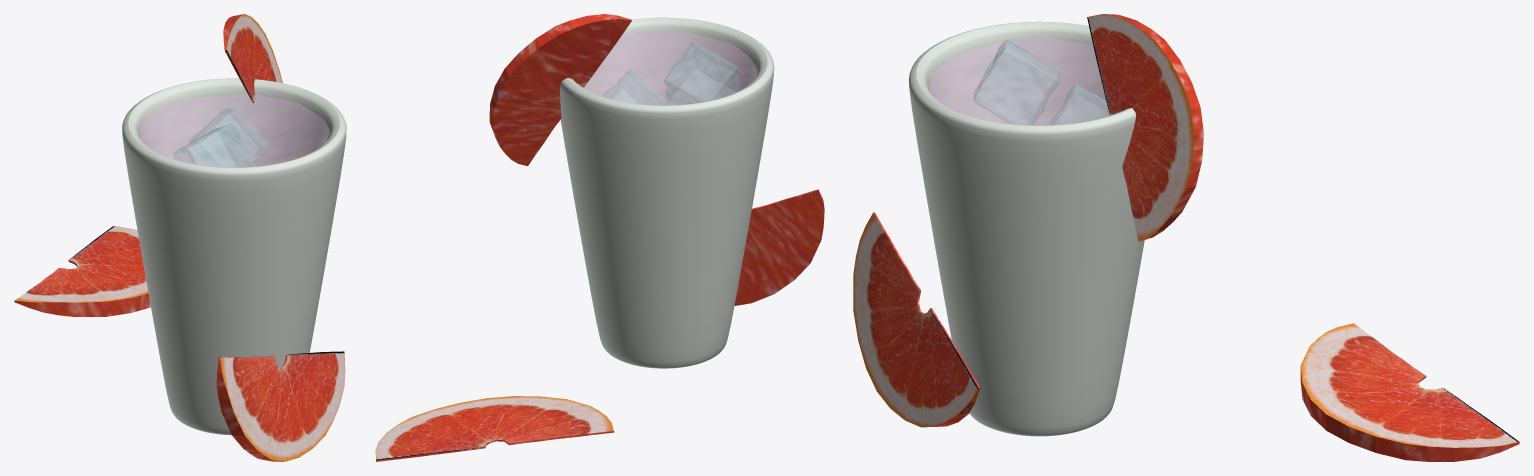
File: GinPomelo.glb
The picture shows the model from 3 angles, left to right: view 1: azimuth 30°, elevation 25°; view 2: azimuth 150°, elevation 25°; view 3: azimuth 270°, elevation 25°; orthographic projection. The views are drawn at different scales.
Visible parts, largest first — view 1: cup, pomelo, water, pomelo.001, pomelo.002, ice, ice 2; view 2: cup, pomelo.002, water, pomelo.001, pomelo, ice, ice 2; view 3: cup, pomelo.001, pomelo.002, pomelo, water, ice, ice 2.
Part boxes in pixels (box(x1,y1,x2,y2)): cup: box(122, 78, 346, 435); pomelo: box(216, 351, 345, 461); water: box(140, 94, 328, 167); pomelo.001: box(14, 226, 150, 316); pomelo.002: box(223, 14, 282, 103); ice: box(173, 124, 255, 167); ice 2: box(189, 108, 269, 162); cup: box(560, 17, 774, 368); pomelo.002: box(489, 14, 631, 166); water: box(579, 31, 756, 105); pomelo.001: box(375, 396, 614, 461); pomelo: box(734, 189, 824, 305); ice: box(664, 42, 739, 104); ice 2: box(603, 69, 667, 104); cup: box(909, 21, 1144, 436); pomelo.001: box(1300, 323, 1519, 461); pomelo.002: box(1087, 14, 1203, 241); pomelo: box(853, 212, 980, 427); water: box(929, 36, 1110, 125); ice: box(973, 40, 1059, 124); ice 2: box(1050, 85, 1109, 124).
Size of the model in its own units: 5.35 by 8.6 by 12.56.
Materials: 4 (1 with a texture image).
